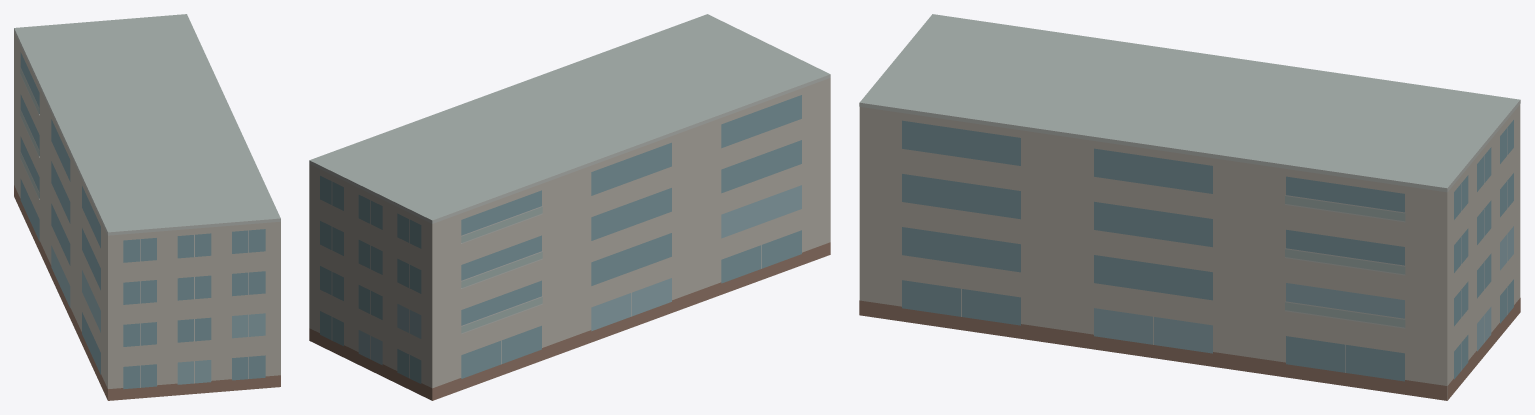
The model's file is survey-upis-32941065.glb.
3 renders of one model, left to right at view 1: azimuth 30°, elevation 25°; view 2: azimuth 150°, elevation 25°; view 3: azimuth 270°, elevation 25°, orthographic. The views are drawn at different scales.
Visible parts, largest first — view 1: survey-upis-32941065.tmp; view 2: survey-upis-32941065.tmp; view 3: survey-upis-32941065.tmp.
Boxes of the visible parts, <box> form: survey-upis-32941065.tmp: <box>14,14,280,400</box>; survey-upis-32941065.tmp: <box>309,14,830,400</box>; survey-upis-32941065.tmp: <box>859,14,1520,400</box>.
Size of the model in its own units: 22.33 by 12.7 by 35.79.
